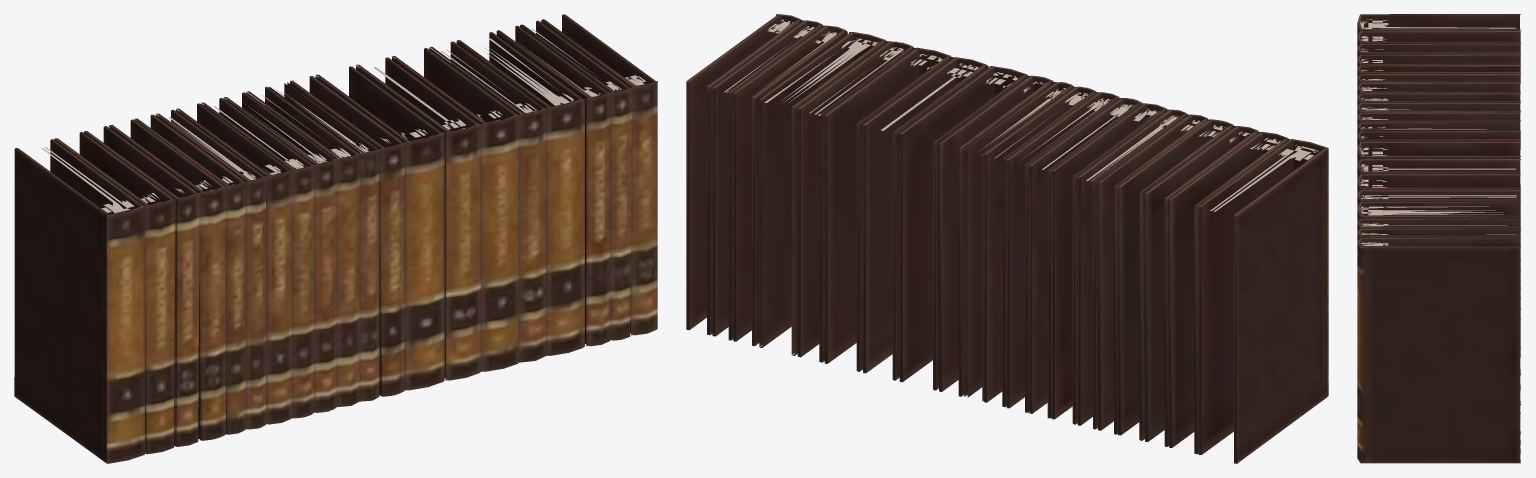
Rendered from books.glb.
3 renders of one model, left to right at view 1: azimuth 30°, elevation 25°; view 2: azimuth 150°, elevation 25°; view 3: azimuth 270°, elevation 25°, orthographic. The views are drawn at different scales.
Parts seen in each view (by area): view 1: book_encyclopedia_set_01_book01; view 2: book_encyclopedia_set_01_book01; view 3: book_encyclopedia_set_01_book01.
Boxes of the visible parts, bbox=[...] form: book_encyclopedia_set_01_book01: bbox=[14, 14, 657, 463]; book_encyclopedia_set_01_book01: bbox=[686, 14, 1328, 463]; book_encyclopedia_set_01_book01: bbox=[1357, 14, 1520, 463].
Bounding box in the file's own units: 0.5531 × 0.2374 × 0.1637.
2 materials, 2 textured.
